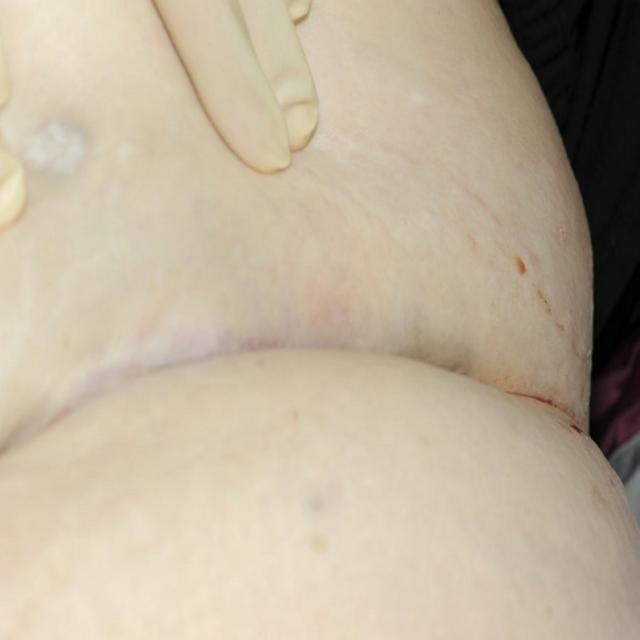wound: (1, 278, 606, 455)
